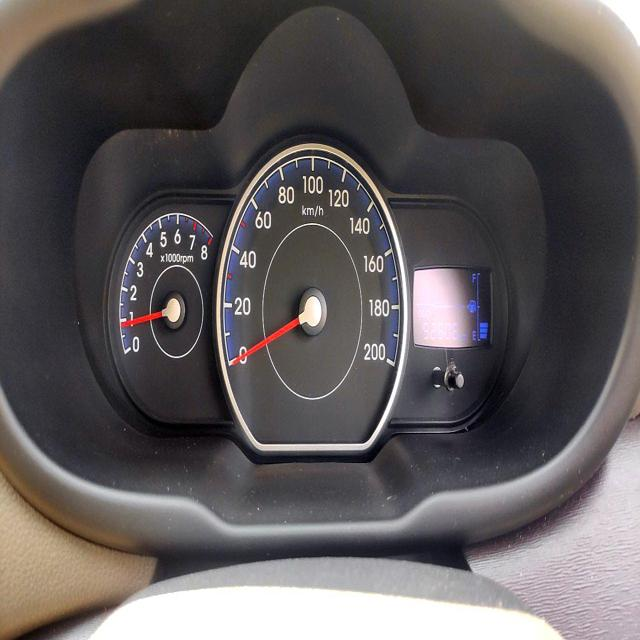odometer: (422, 320, 460, 344)
